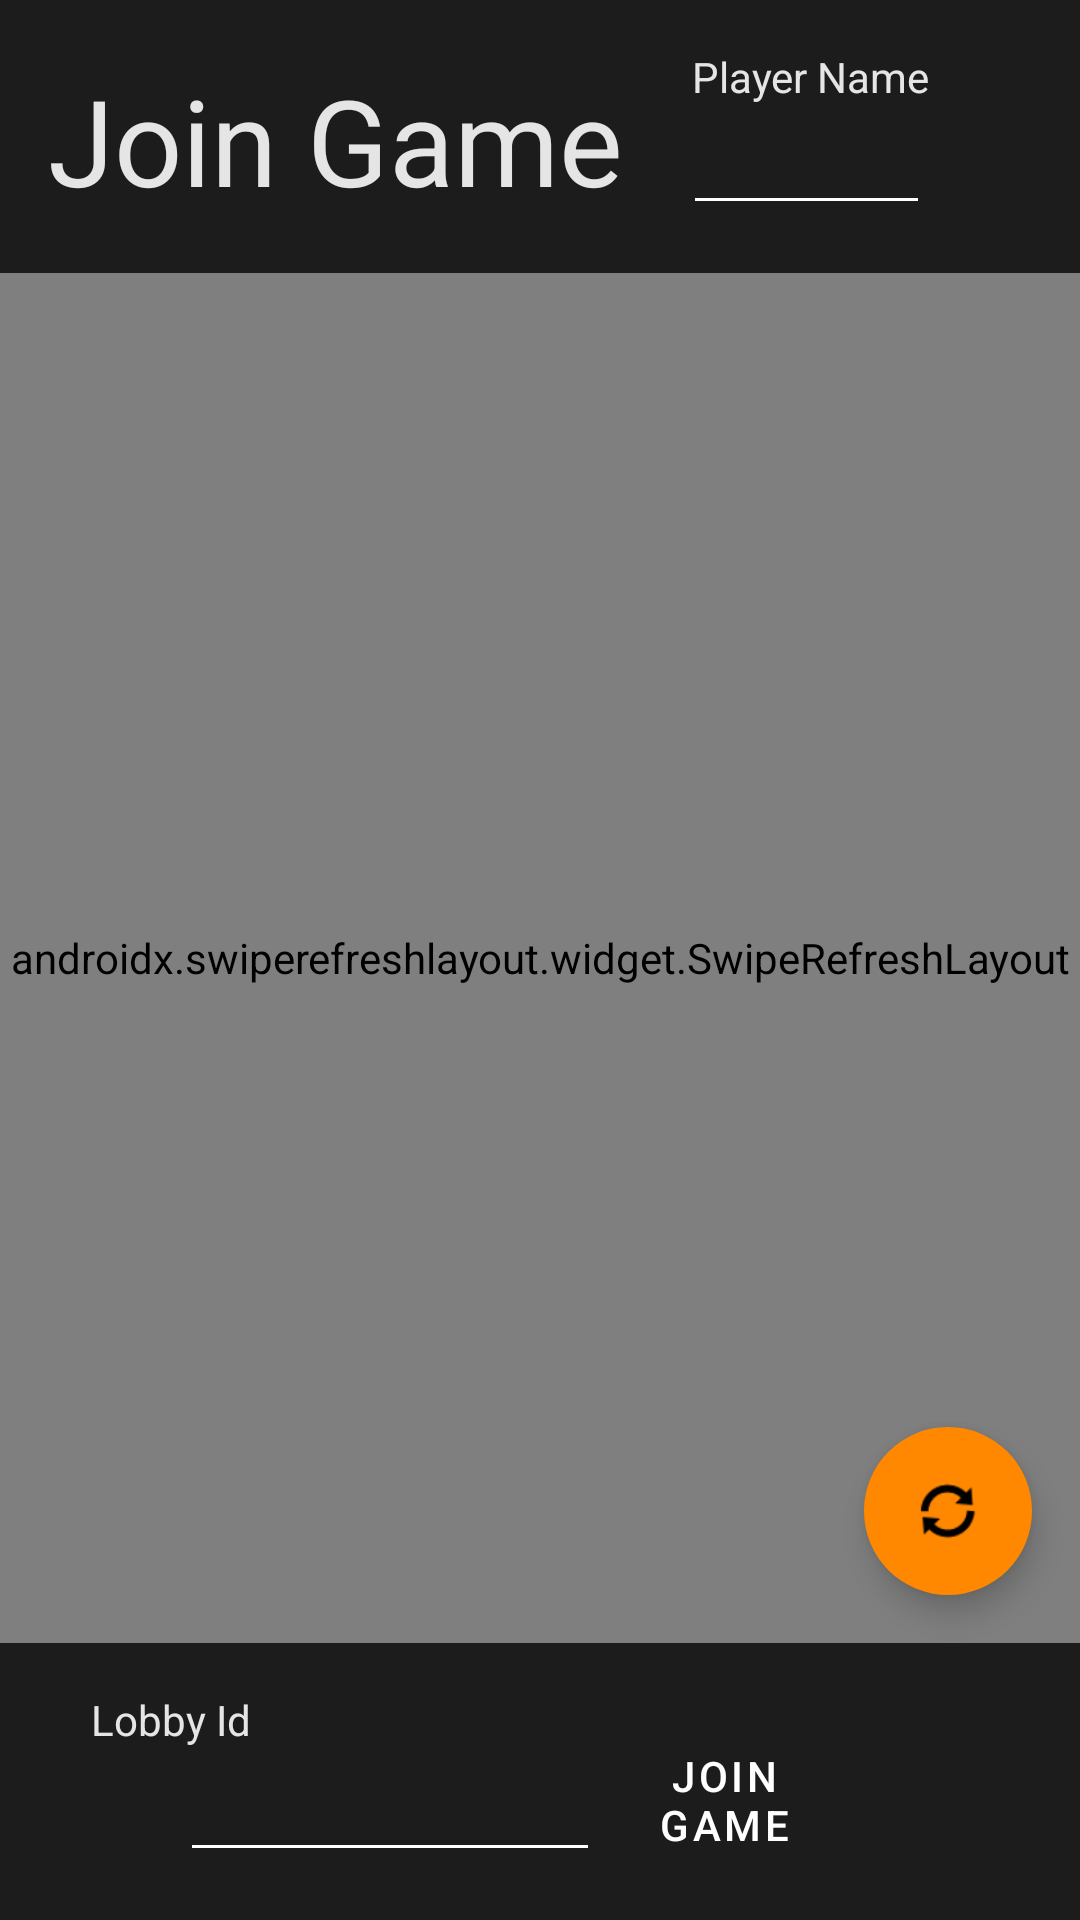

Named icons in this screenshot (1080w x 1920h) and their centers, (x,y):
popup sync: (948,1511)
